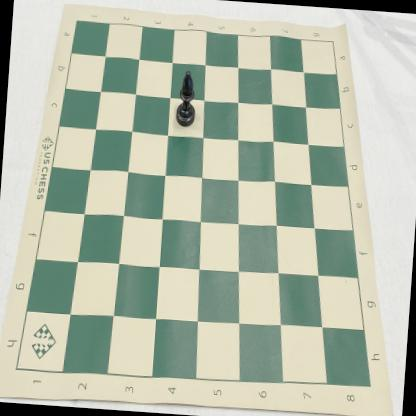bishop: (174, 69, 198, 128)
